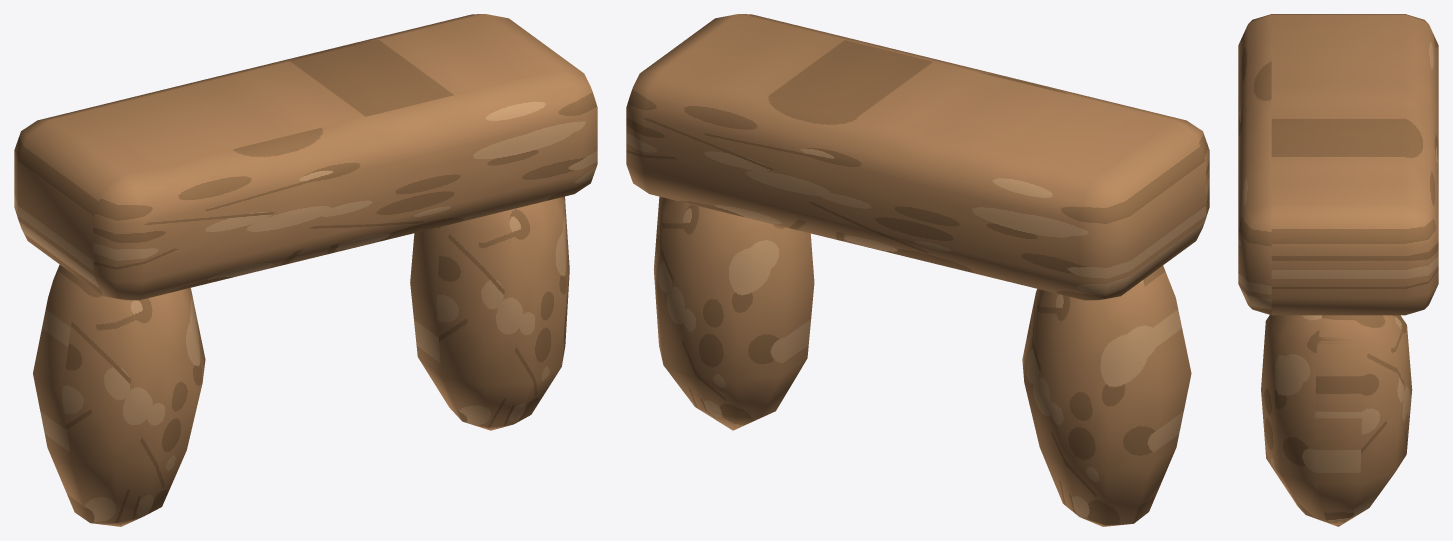
File: prop_rock_arch.glb
3 renders of one model, left to right at view 1: azimuth 30°, elevation 25°; view 2: azimuth 150°, elevation 25°; view 3: azimuth 270°, elevation 25°, orthographic. The views are drawn at different scales.
Parts seen in each view (by area): view 1: prop_rock_arch; view 2: prop_rock_arch; view 3: prop_rock_arch.
Part boxes in pixels (box(x1,y1,x2,y2)): prop_rock_arch: box(14, 14, 597, 526); prop_rock_arch: box(626, 14, 1209, 526); prop_rock_arch: box(1238, 14, 1438, 526).
Size of the model in its own units: 2.34 by 1.7 by 0.9.
Materials: 1 (1 with a texture image).
